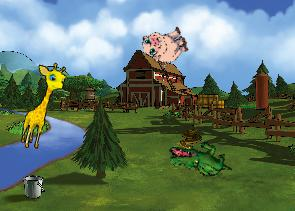crocodile: (167, 137, 232, 182)
giraffe: (18, 59, 69, 153)
pig: (138, 19, 192, 71)
